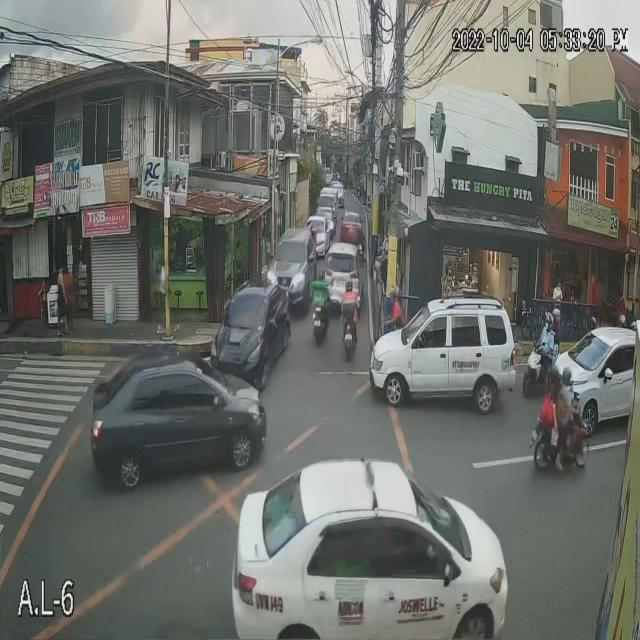half: (543, 310, 552, 332), (552, 305, 562, 324)
invalid: (562, 368, 573, 384)
